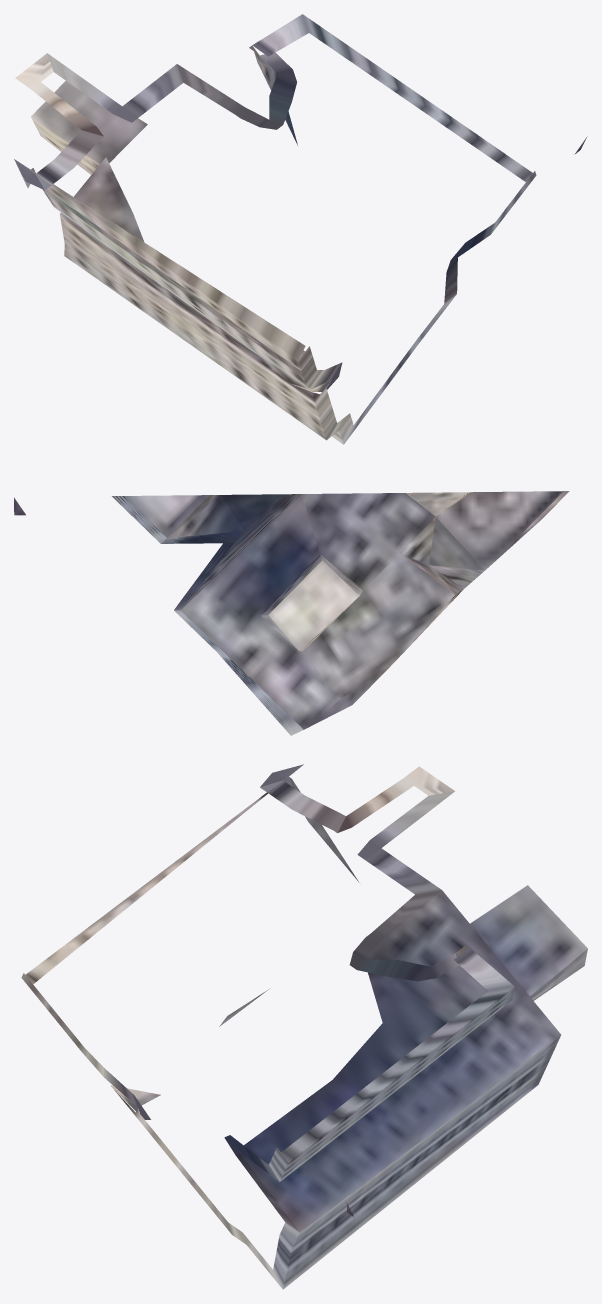
The picture shows the model from 3 angles, top to bottom: view 1: azimuth 30°, elevation 25°; view 2: azimuth 150°, elevation 25°; view 3: azimuth 270°, elevation 25°; orthographic projection. The views are drawn at different scales.
Bounding box in the file's own units: 63.44 × 38.71 × 51.35.
1 material, 1 textured.
